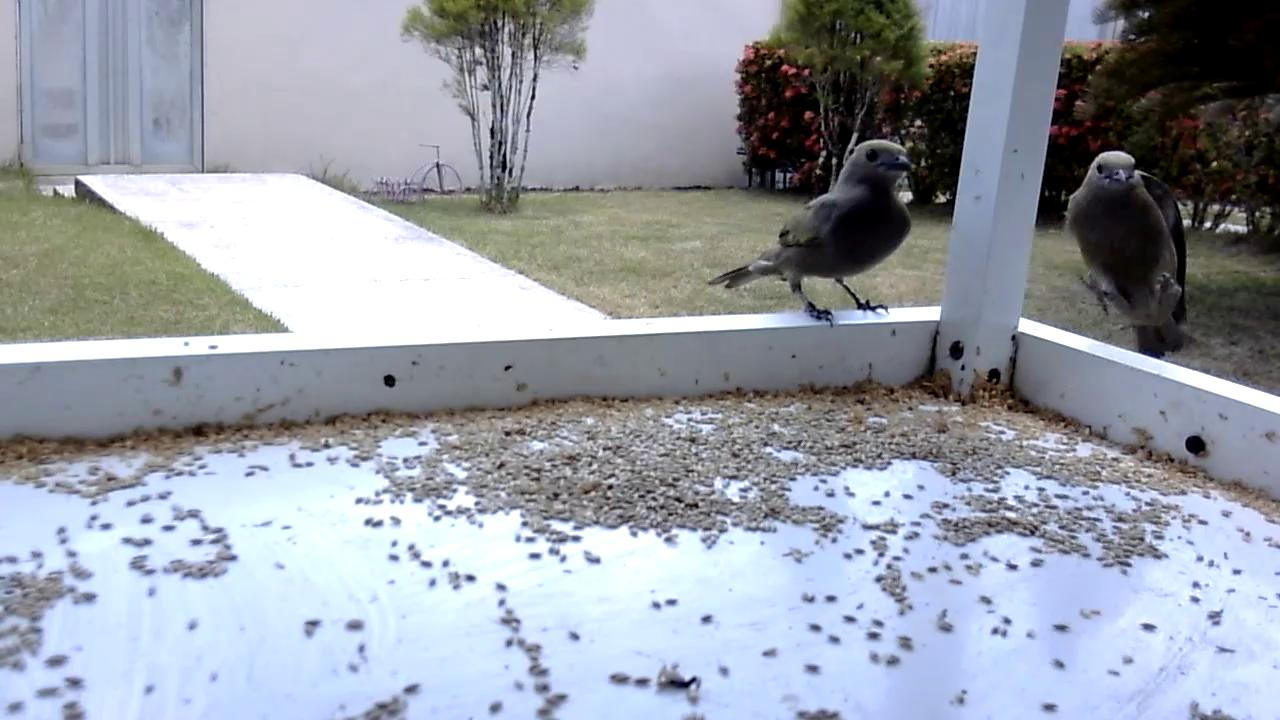sanhaco_do_coqueiro: (706, 138, 927, 332), (1065, 149, 1194, 360)
